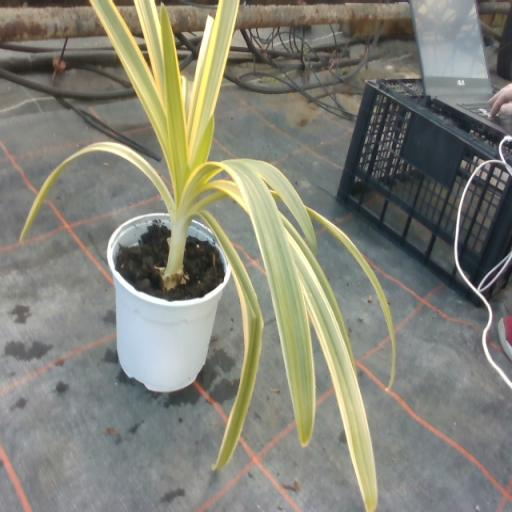Agapanthus-praecox: (184, 159, 314, 445), (286, 221, 377, 511), (308, 207, 395, 388), (20, 143, 174, 240), (207, 220, 263, 467), (90, 0, 170, 163), (191, 0, 238, 150), (239, 160, 314, 238), (157, 7, 187, 196), (134, 0, 163, 94), (194, 116, 214, 165)
